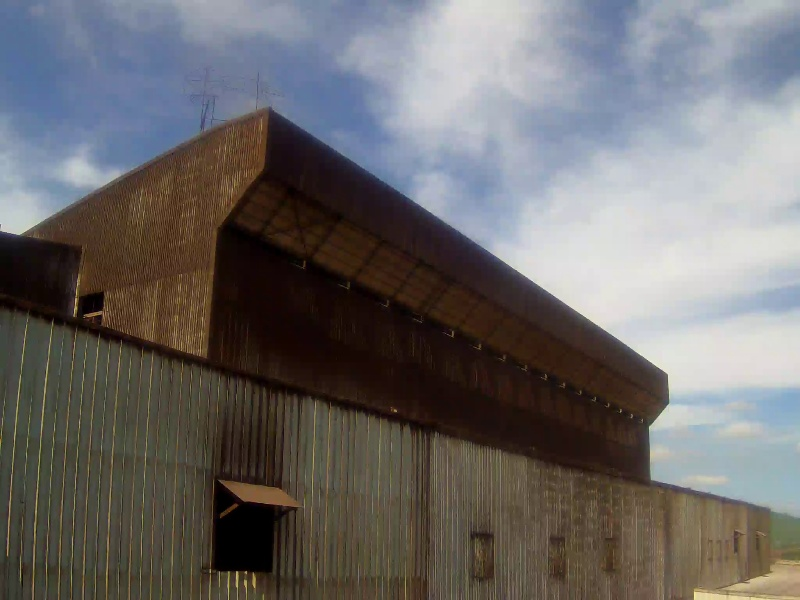bom: (271, 76, 696, 451), (527, 237, 778, 473), (10, 4, 267, 157)
